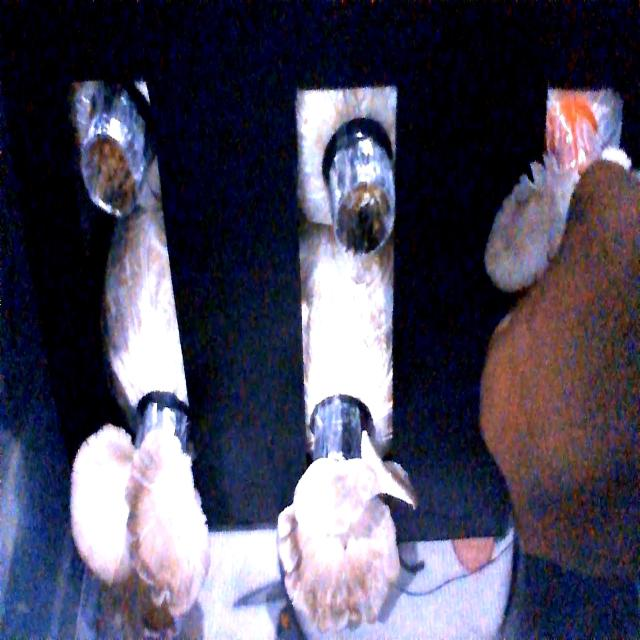big: (66, 434, 212, 598), (280, 449, 406, 634)
nfound: (82, 134, 149, 232), (330, 184, 392, 260)
